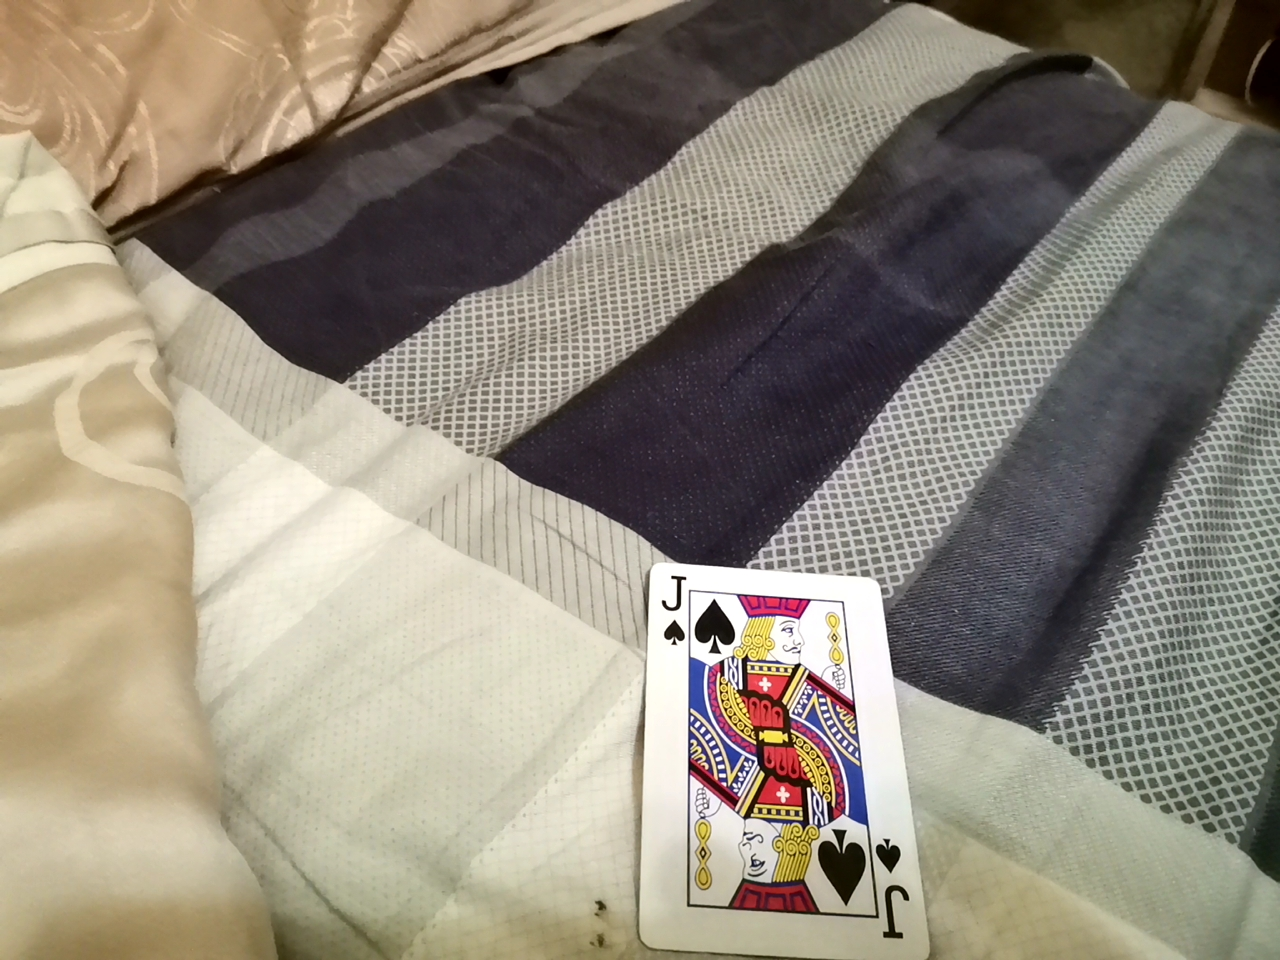ht j: (615, 549, 925, 958)
